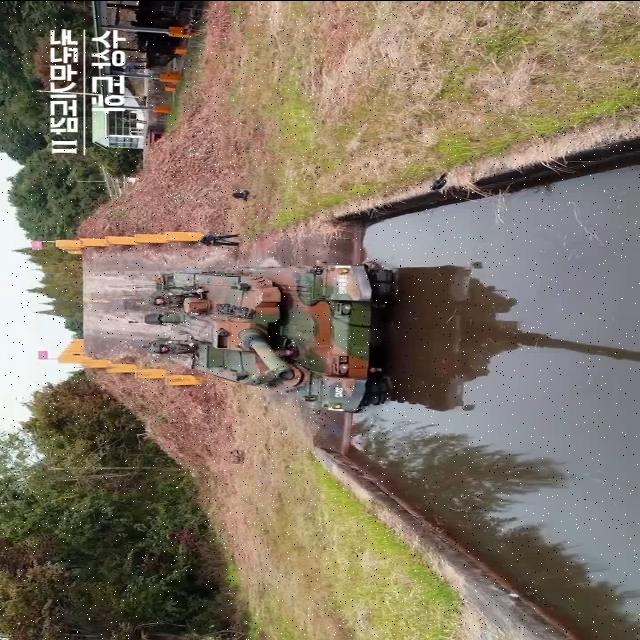korea tank: (126, 256, 406, 415)
